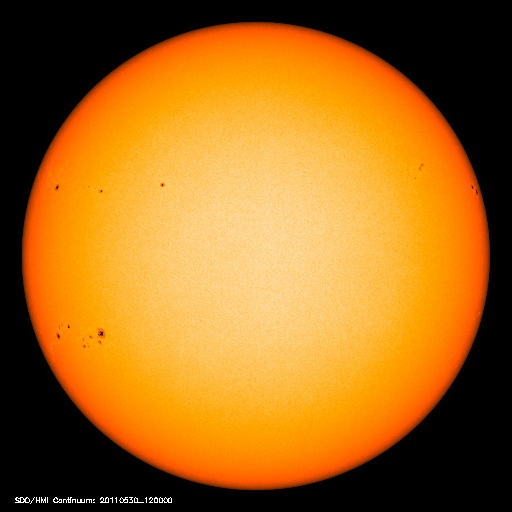sunspot: (45, 314, 113, 356), (45, 170, 108, 199), (145, 167, 177, 200), (406, 154, 433, 185), (462, 175, 483, 205)
